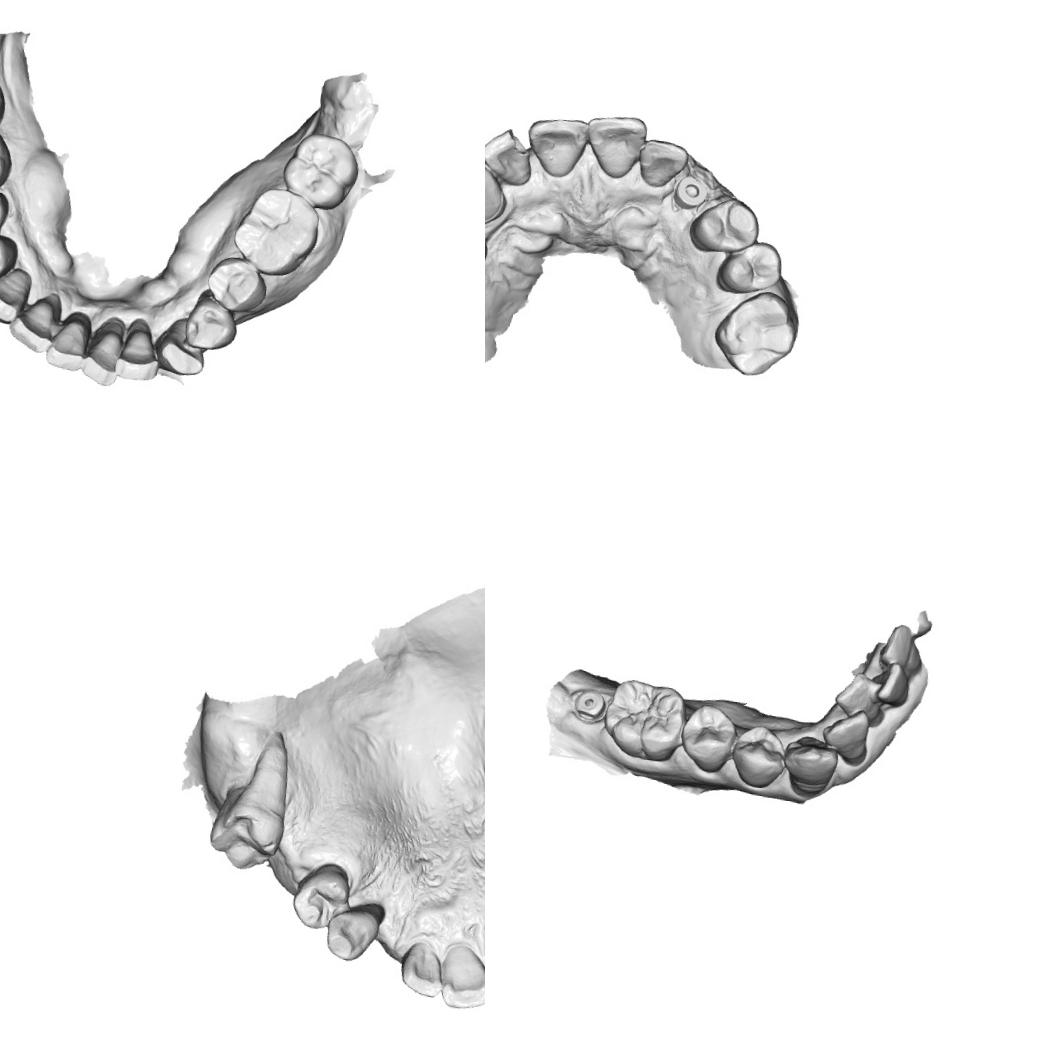canine: (781, 732, 842, 800), (149, 317, 212, 381), (322, 902, 382, 964), (0, 263, 34, 327), (485, 157, 513, 230)
implant: (668, 170, 715, 216), (566, 686, 614, 727)
incisor: (581, 108, 650, 182), (522, 112, 590, 180), (816, 706, 878, 770), (485, 122, 538, 193), (830, 668, 888, 731), (112, 318, 166, 385), (437, 940, 485, 1013), (634, 136, 688, 200), (6, 290, 59, 355), (78, 319, 126, 389), (397, 940, 448, 1000), (42, 312, 92, 373), (876, 620, 923, 671), (872, 660, 914, 711)
molar: (227, 180, 324, 283), (710, 284, 804, 382), (598, 674, 690, 766), (202, 782, 289, 878), (276, 126, 364, 212)
premolar: (686, 192, 765, 260), (712, 236, 788, 302), (288, 858, 354, 934), (678, 700, 739, 776), (201, 254, 272, 318), (727, 718, 788, 792), (182, 296, 240, 355), (0, 227, 22, 286), (0, 183, 13, 240)
